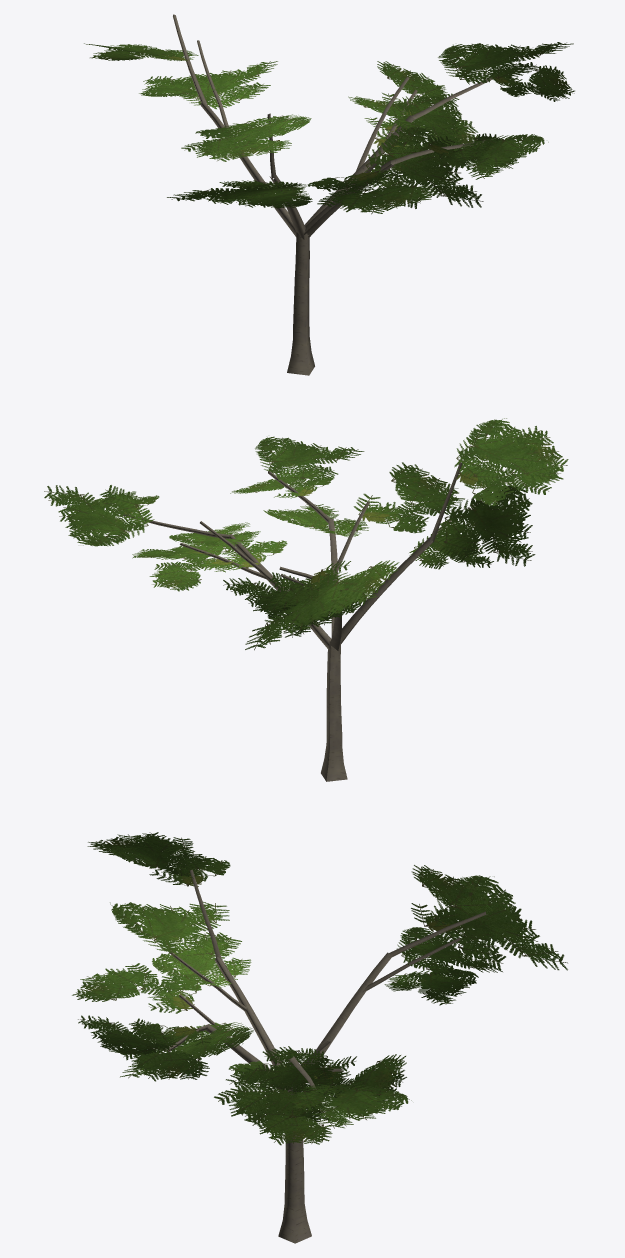
File: albizia-schimperiana-lod3.glb
3 views of the same model, one above another, from view 1: azimuth 30°, elevation 25°; view 2: azimuth 150°, elevation 25°; view 3: azimuth 270°, elevation 25° (orthographic). The views are drawn at different scales.
Parts seen in each view (by area): view 1: albizia_foliage, albizia_bark; view 2: albizia_foliage, albizia_bark; view 3: albizia_foliage, albizia_bark.
Part boxes in pixels (x1=…): albizia_foliage: x1=84, y1=42, x2=574, y2=214; albizia_bark: x1=173, y1=14, x2=493, y2=375; albizia_foliage: x1=44, y1=418, x2=568, y2=650; albizia_bark: x1=123, y1=462, x2=462, y2=781; albizia_foliage: x1=72, y1=832, x2=567, y2=1145; albizia_bark: x1=166, y1=869, x2=487, y2=1243.
Size of the model in its own units: 24.11 by 13.99 by 21.81.
2 materials, 2 textured.
